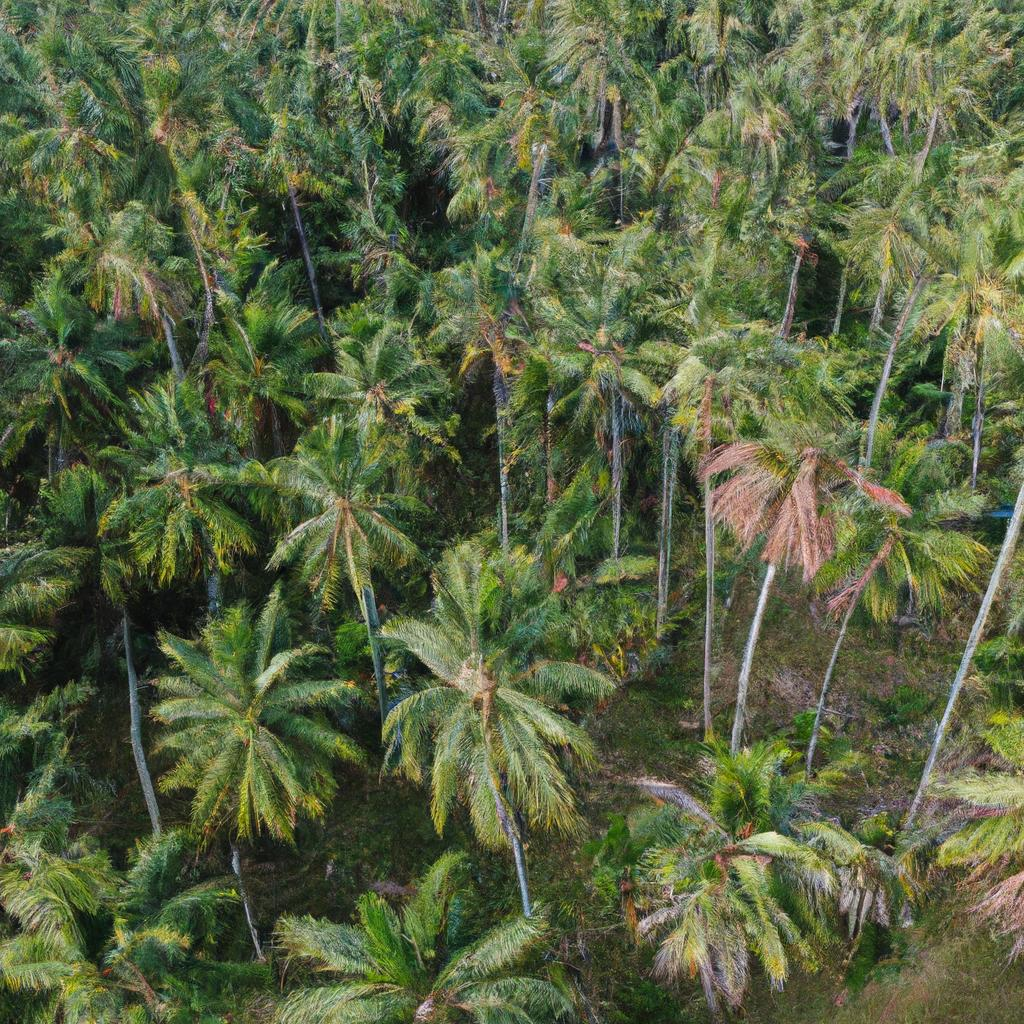coconut_tree: (375, 554, 608, 837), (116, 588, 369, 827), (113, 386, 275, 566), (702, 397, 866, 568), (266, 428, 418, 575)
